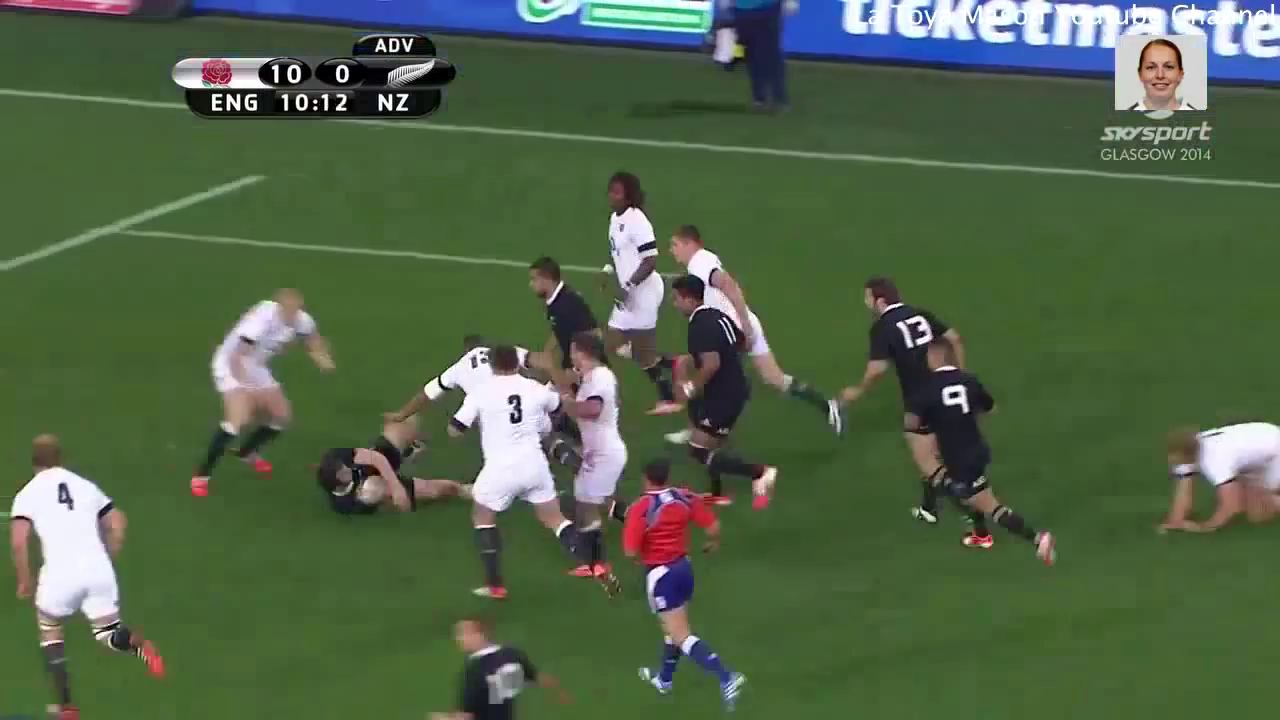ball: (349, 468, 392, 510)
player: (1, 428, 169, 720), (827, 270, 1003, 548), (660, 217, 853, 437), (900, 330, 1067, 576), (445, 337, 589, 598), (178, 283, 337, 508), (615, 455, 753, 708), (657, 266, 782, 528), (581, 167, 685, 424), (557, 330, 654, 594), (314, 408, 484, 521), (1149, 404, 1280, 541), (416, 608, 575, 720), (392, 324, 507, 436), (516, 247, 612, 377)
